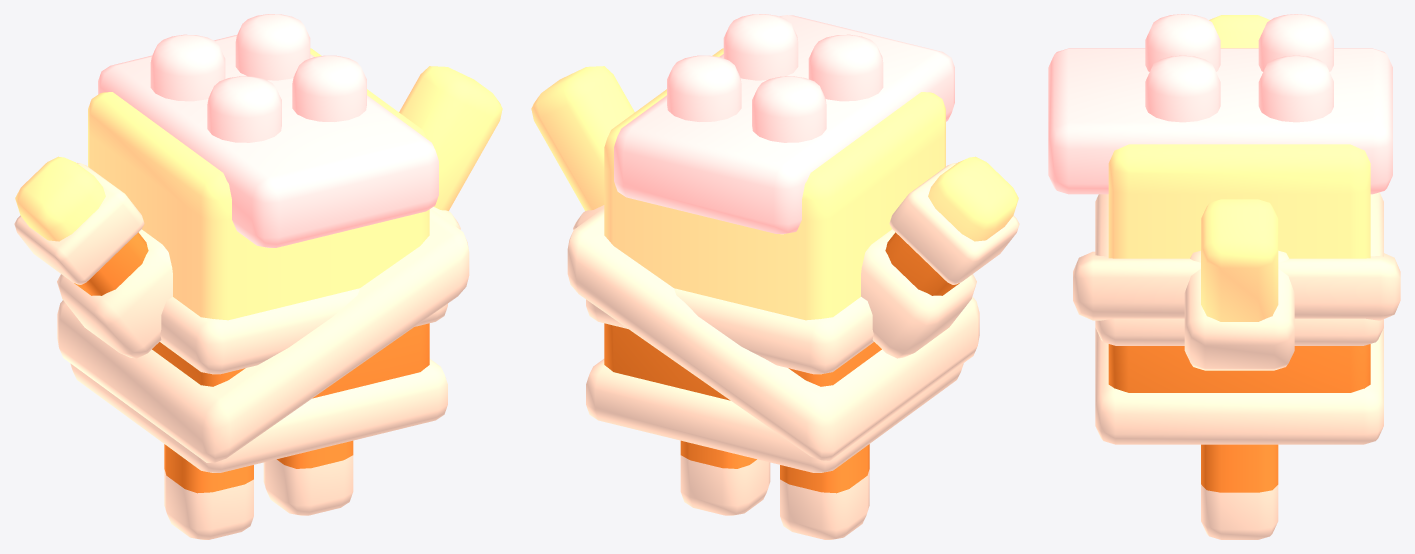
Rendered from Icon.fbx.
The picture shows the model from 3 angles, left to right: view 1: azimuth 30°, elevation 25°; view 2: azimuth 150°, elevation 25°; view 3: azimuth 270°, elevation 25°; orthographic projection.
Visible parts, largest first — view 1: Red-Lv3-Viking; view 2: Red-Lv3-Viking; view 3: Red-Lv3-Viking.
Boxes of the visible parts, box(x1,y1,x2,y2) form: Red-Lv3-Viking: box(14, 14, 502, 539); Red-Lv3-Viking: box(531, 14, 1019, 539); Red-Lv3-Viking: box(1048, 14, 1400, 539).
Bounding box in the file's own units: 1.59 × 1.52 × 1.05.
